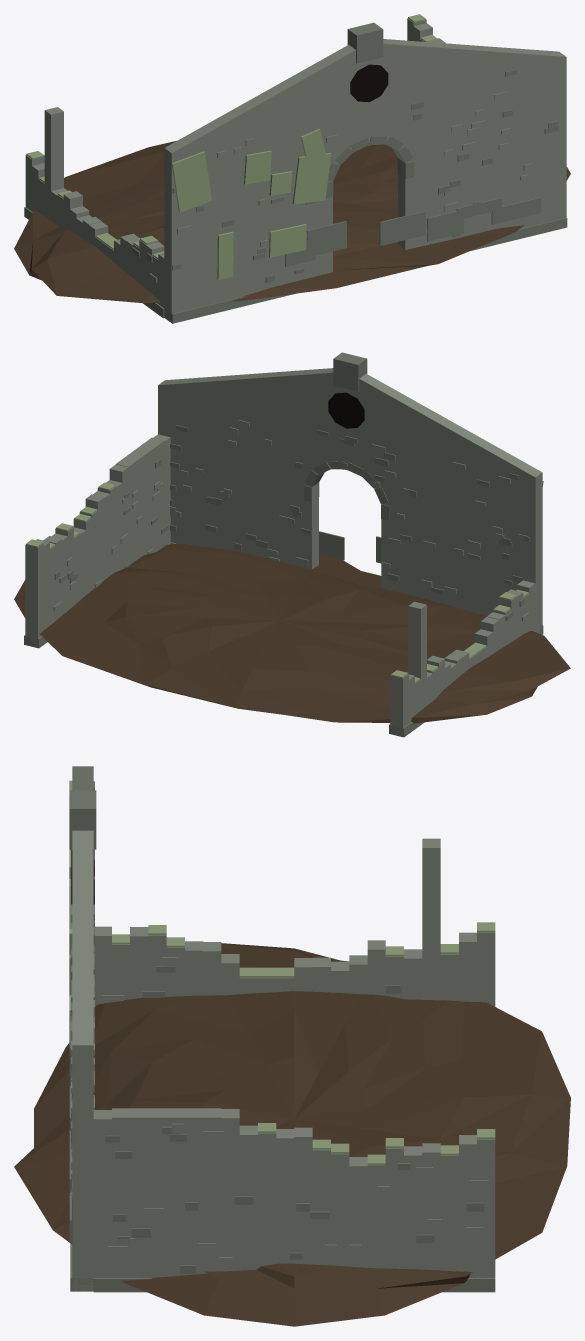
File: greyfen-chapel-ruin.glb
3 views of the same model, one above another, from view 1: azimuth 30°, elevation 25°; view 2: azimuth 150°, elevation 25°; view 3: azimuth 270°, elevation 25° (orthographic). The views are drawn at different scales.
Parts seen in each view (by area): view 1: Body_Stone, Body_Peat, Body_StoneDark, Body_Moss, Body_Dark; view 2: Body_Stone, Body_Peat, Body_StoneDark, Body_Moss, Body_Dark; view 3: Body_Peat, Body_Stone, Body_StoneDark, Body_Moss.
Boxes of the visible parts, x1,y1,x2,y2 form: Body_Stone: (25, 18, 566, 322); Body_Peat: (14, 141, 570, 303); Body_StoneDark: (24, 22, 567, 323); Body_Moss: (26, 14, 451, 279); Body_Dark: (350, 64, 388, 102); Body_Stone: (25, 368, 542, 736); Body_Peat: (14, 543, 570, 723); Body_StoneDark: (24, 352, 543, 737); Body_Moss: (26, 481, 543, 682); Body_Dark: (328, 392, 364, 428); Body_Peat: (14, 941, 570, 1326); Body_Stone: (71, 766, 495, 1291); Body_StoneDark: (69, 781, 495, 1292); Body_Moss: (69, 780, 495, 1164).
Bounding box in the file's own units: 16 × 7 × 10.
